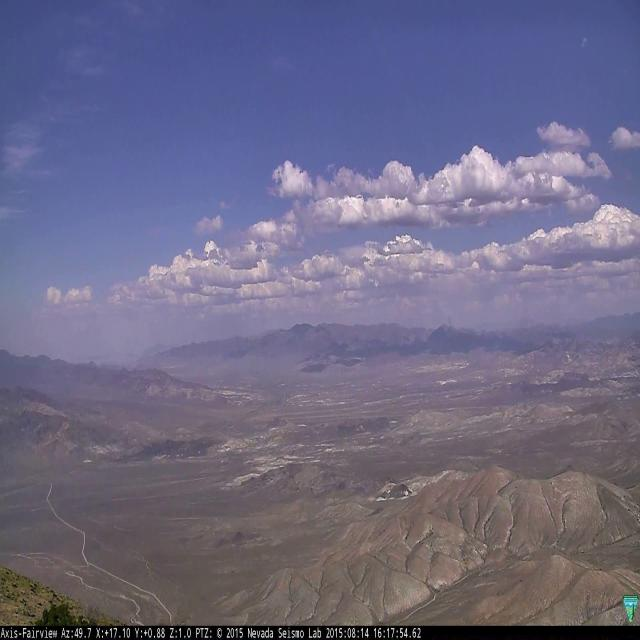smoke: (442, 316, 455, 360)
